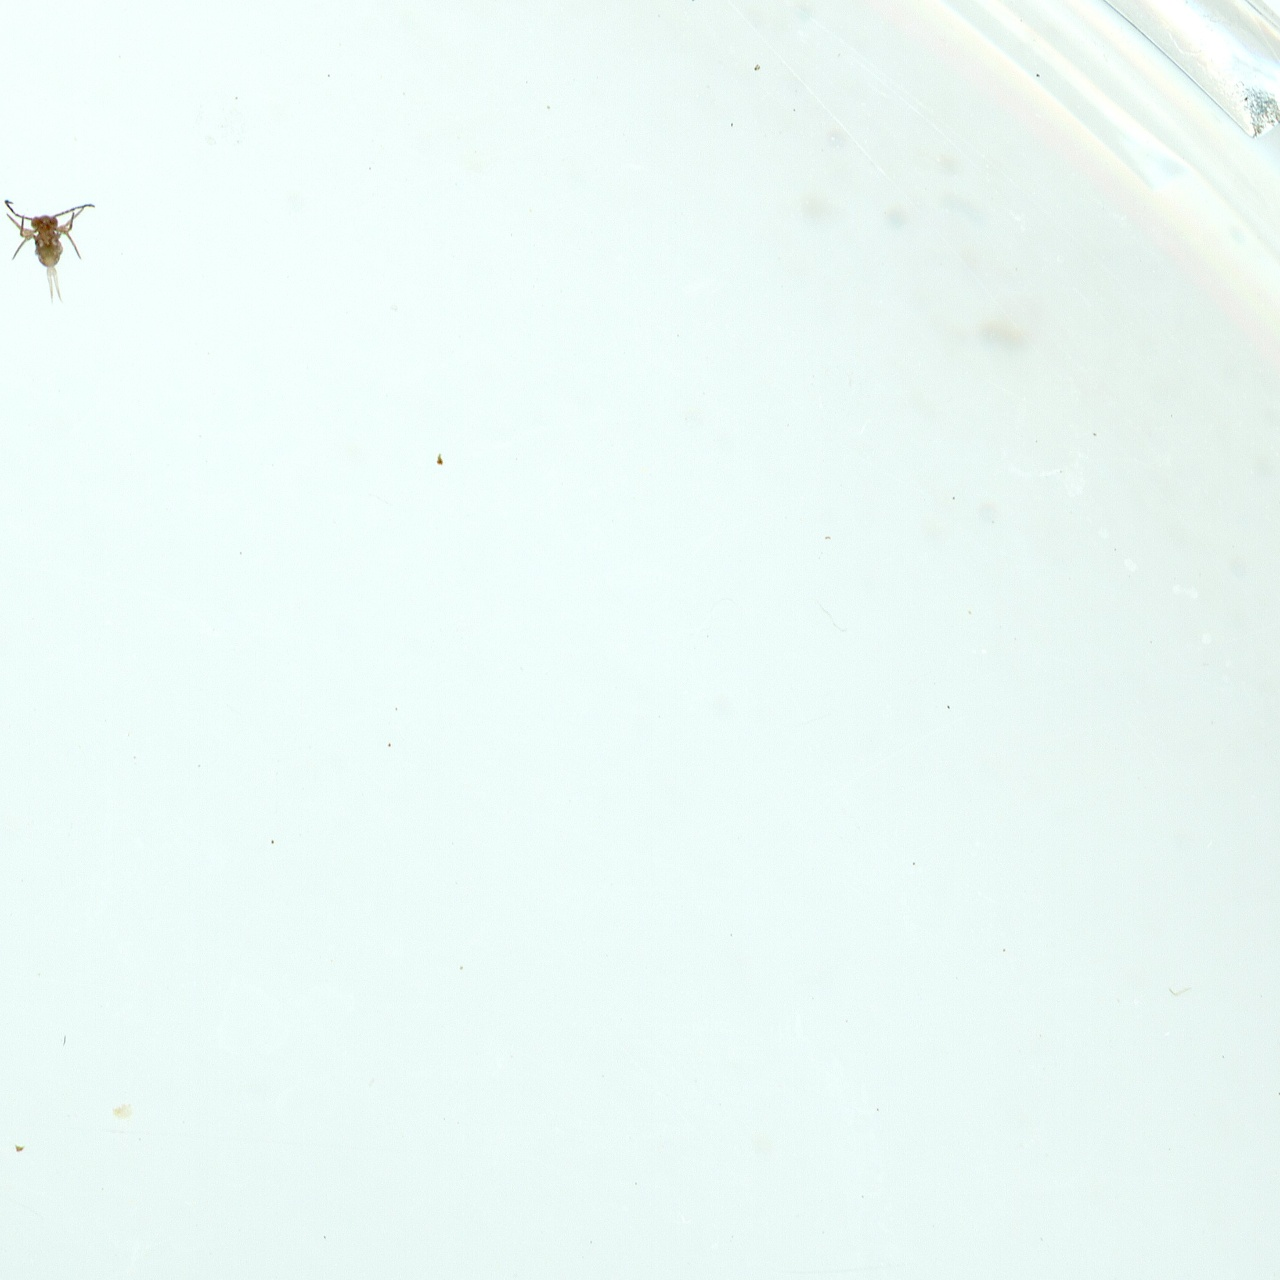arthropod: (0, 195, 104, 308)
